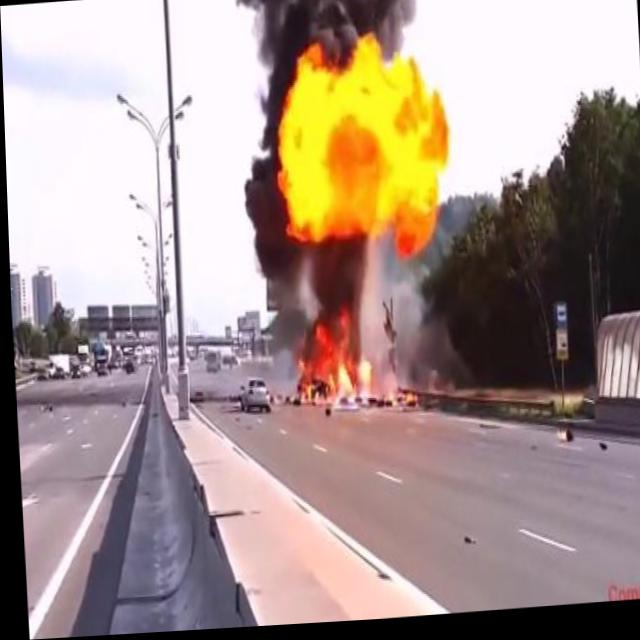fire: (266, 30, 459, 277), (286, 299, 371, 426)
